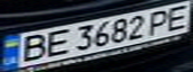2: (124, 12, 151, 41)
3: (72, 22, 96, 52)
6: (90, 18, 115, 48)
8: (109, 16, 133, 45)
B: (12, 32, 54, 63)
E: (39, 27, 72, 58), (160, 2, 193, 32)
P: (145, 7, 178, 35)
